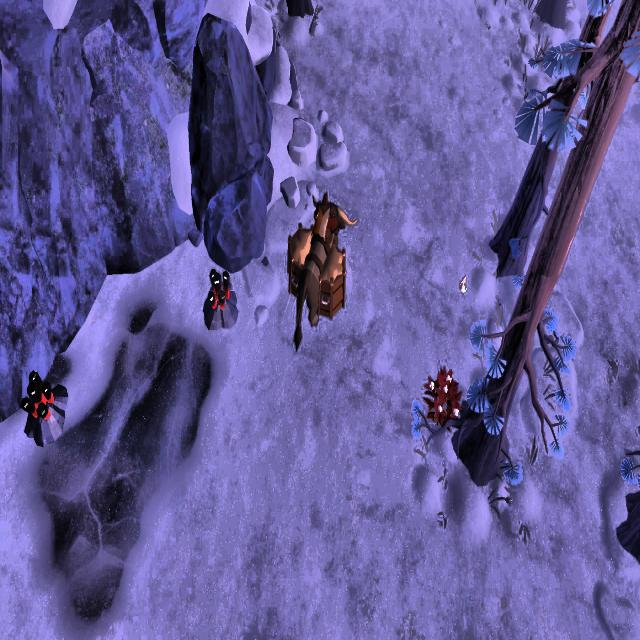fiber_t5: (424, 365, 464, 430)
ore_t5: (20, 366, 54, 423), (204, 268, 233, 315)
